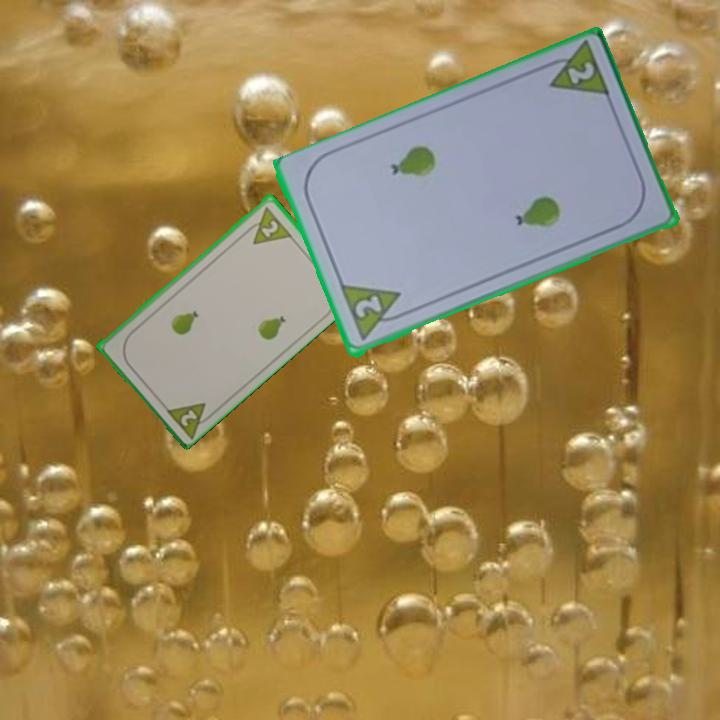2p: (536, 39, 614, 102), (161, 398, 218, 440), (240, 203, 294, 247), (350, 292, 385, 322)
